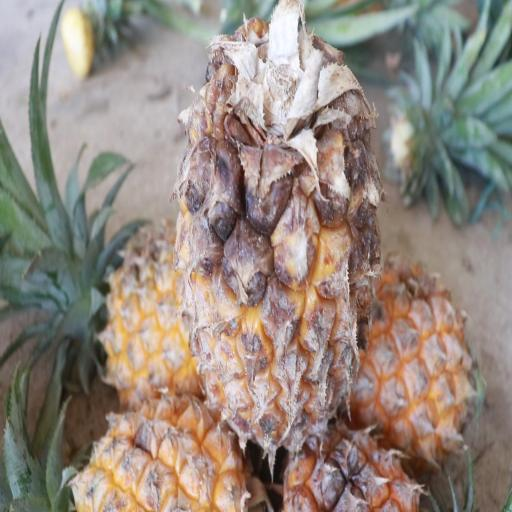Pineapple - v8 v1: (170, 2, 384, 465), (314, 257, 475, 494), (73, 211, 249, 416), (58, 381, 273, 512)
